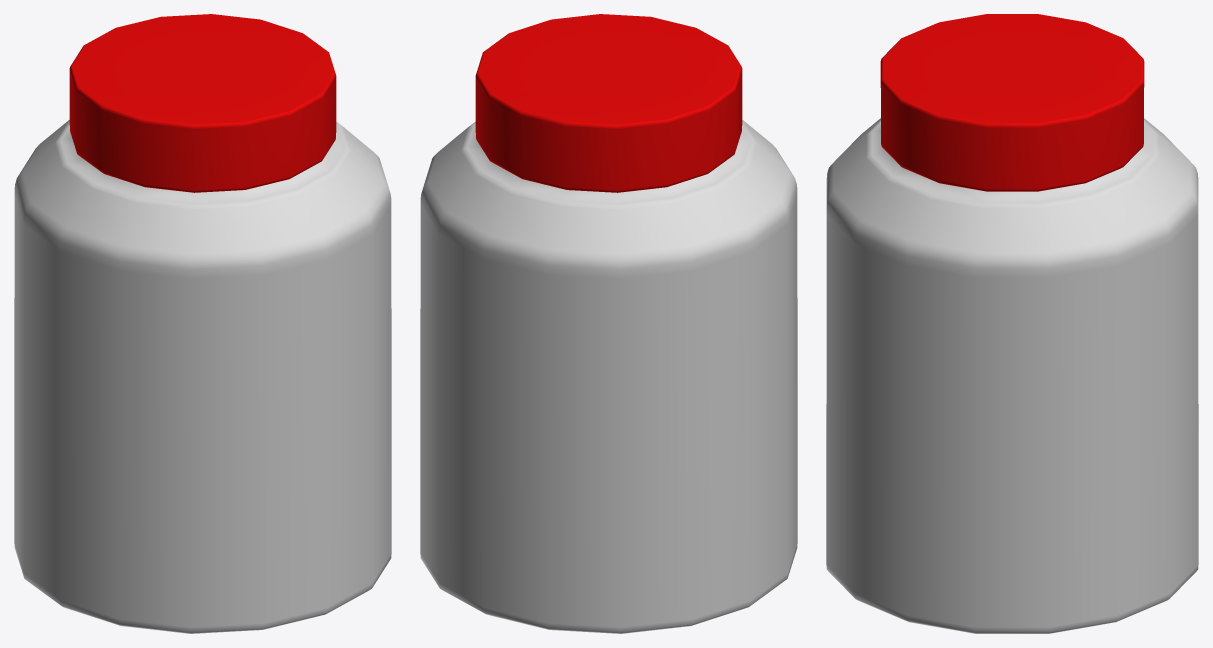
Rendered from jar.fbx.
The picture shows the model from 3 angles, left to right: view 1: azimuth 30°, elevation 25°; view 2: azimuth 150°, elevation 25°; view 3: azimuth 270°, elevation 25°; orthographic projection.
Visible parts, largest first — view 1: Cylinder.002; view 2: Cylinder.002; view 3: Cylinder.002.
Boxes of the visible parts, box(x1,y1,x2,y2) form: Cylinder.002: box(14, 14, 391, 633); Cylinder.002: box(420, 14, 797, 633); Cylinder.002: box(826, 14, 1198, 633).
Bounding box in the file's own units: 17.35 × 25.16 × 17.35.
